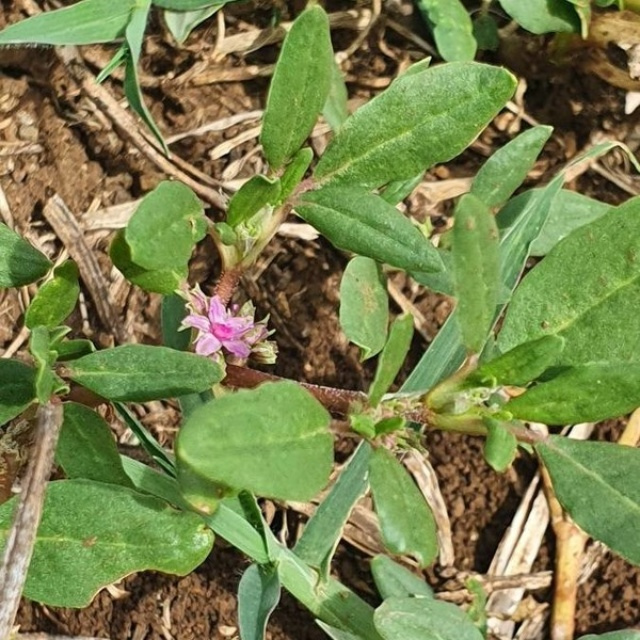obstacle: (37, 146, 565, 592)
